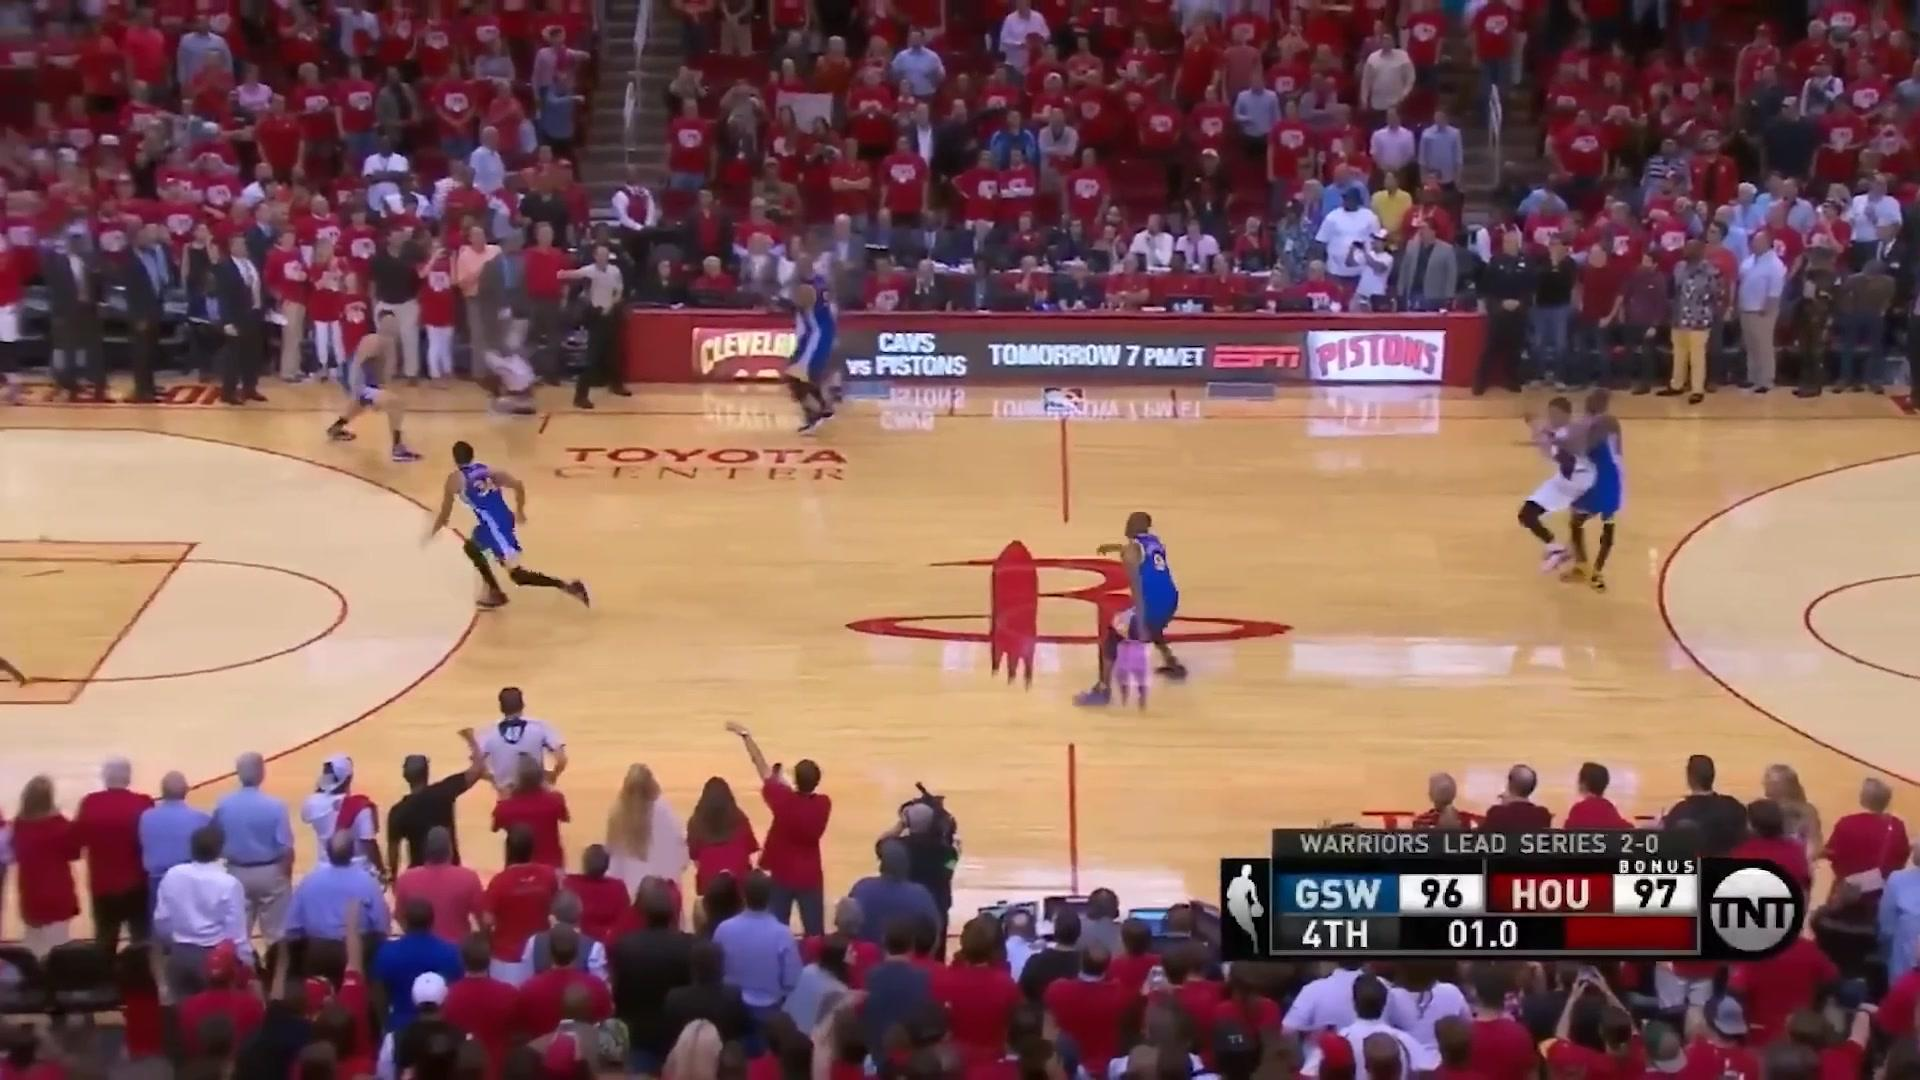foul: (1493, 375, 1648, 616)
